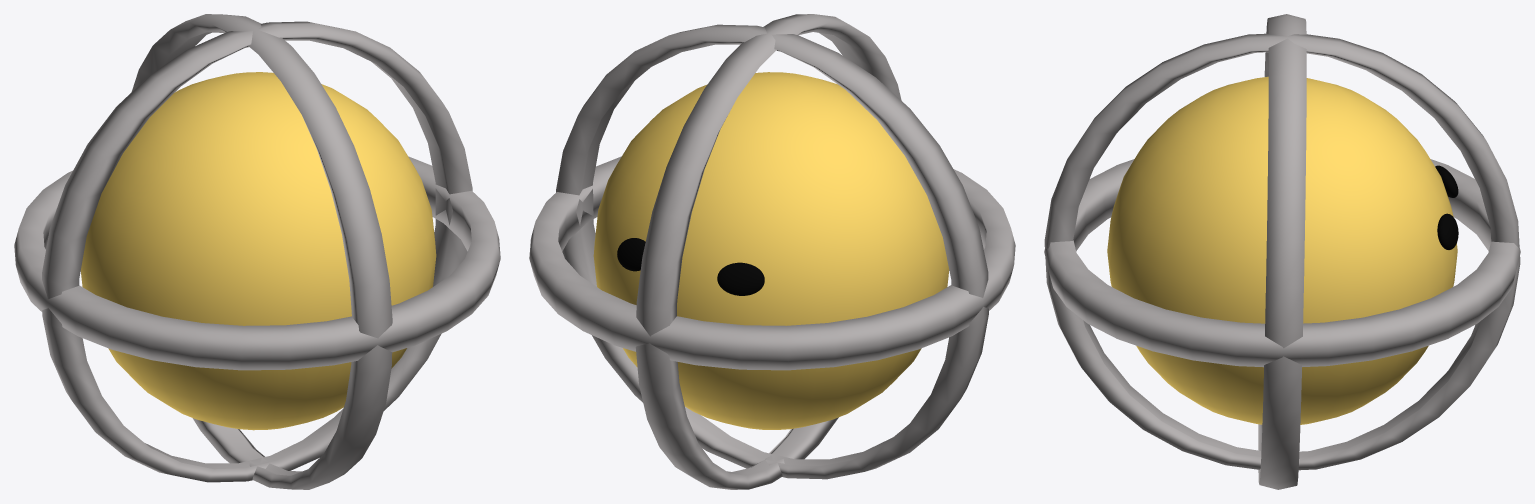
File: kyuutai.fbx
The picture shows the model from 3 angles, left to right: view 1: azimuth 30°, elevation 25°; view 2: azimuth 150°, elevation 25°; view 3: azimuth 270°, elevation 25°; orthographic projection. The views are drawn at different scales.
Visible parts, largest first — view 1: 球.007; view 2: 球.007; view 3: 球.007.
Part boxes in pixels (bbox=[...]): 球.007: bbox=[14, 14, 500, 489]; 球.007: bbox=[529, 14, 1015, 489]; 球.007: bbox=[1044, 14, 1520, 489].
Size of the model in its own units: 408 by 408 by 407.
